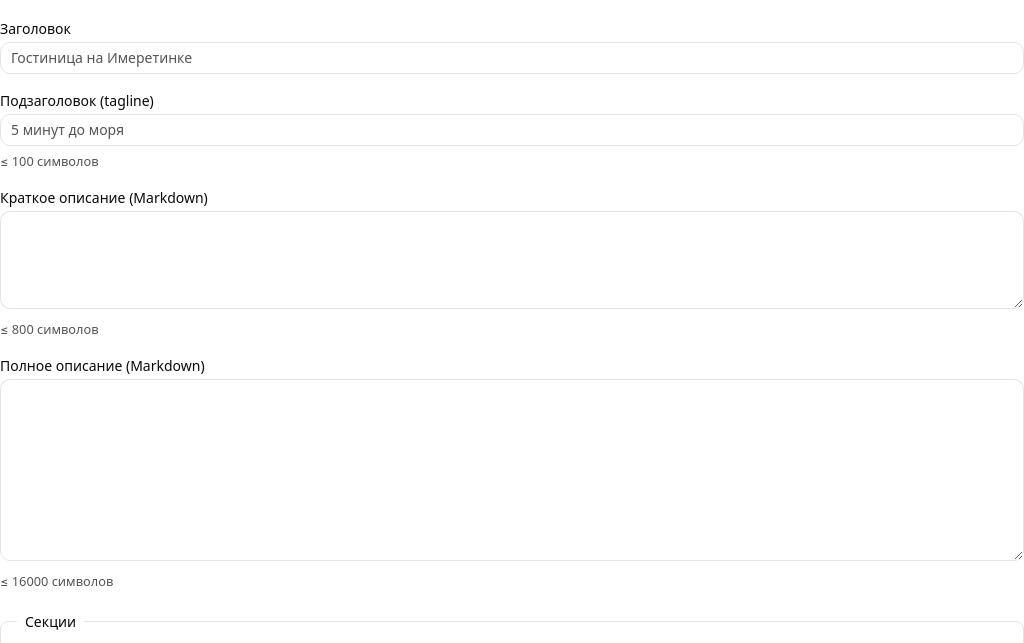
Test: <DescriptionsStep> — min required › [M3] title + summary both filled → save enabled, hint hidden
This screenshot has width=1024, height=643.
Type "T" into the field labelled "Заголовок". click: [512, 58]
box: x1=0 y1=42 x2=1023 y2=74
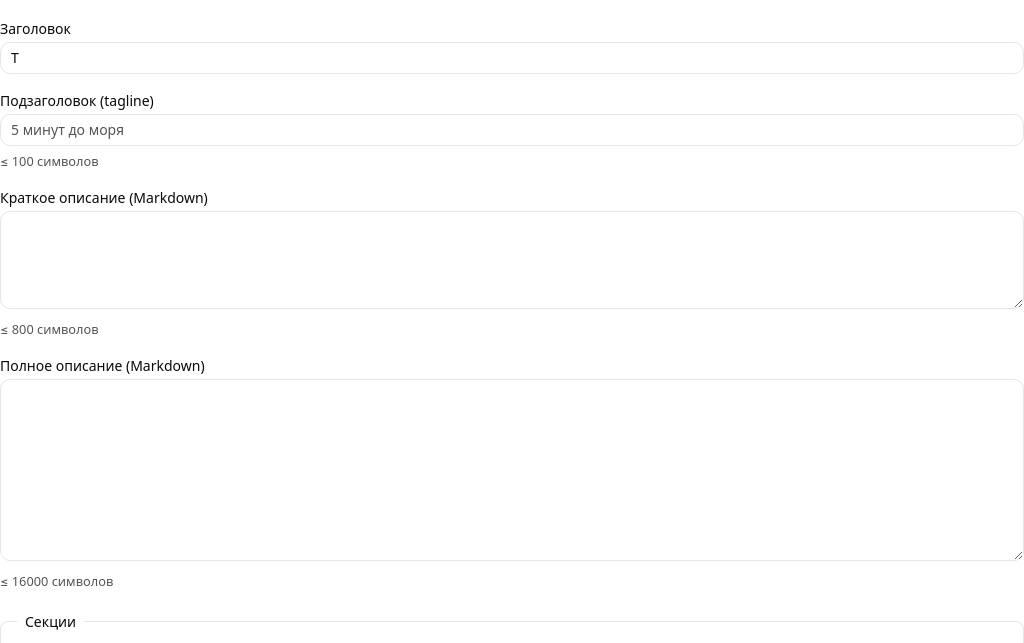
Type "S" into the text box labelled "Краткое описание (Markdown)". click: [512, 260]
box: x1=0 y1=211 x2=1023 y2=309
(page scrolled)
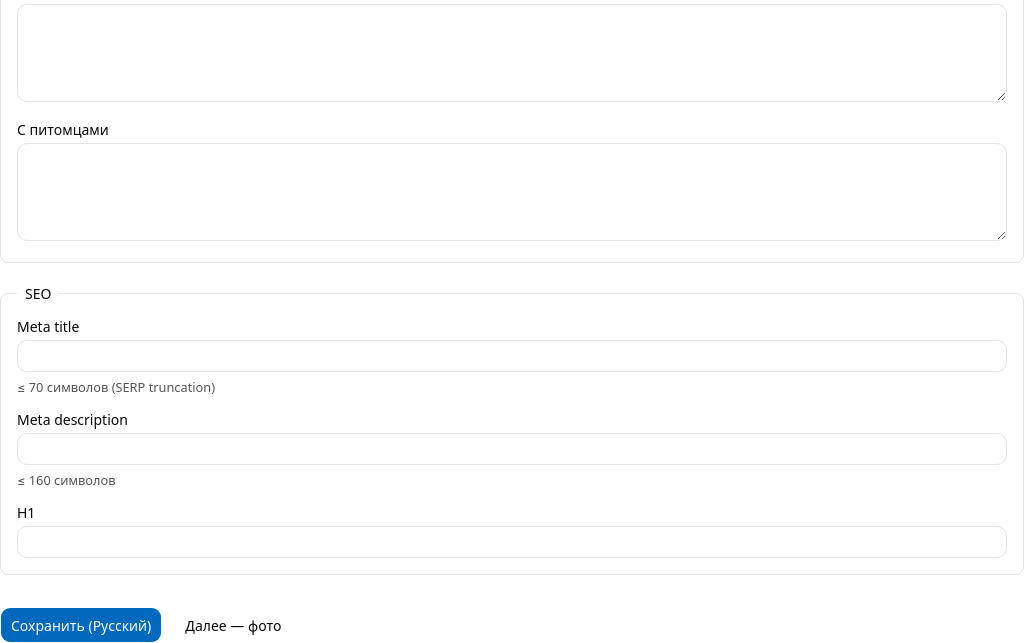
Expected: the button "Сохранить (Русский)" is enabled, x1=0 y1=607 x2=162 y2=642
